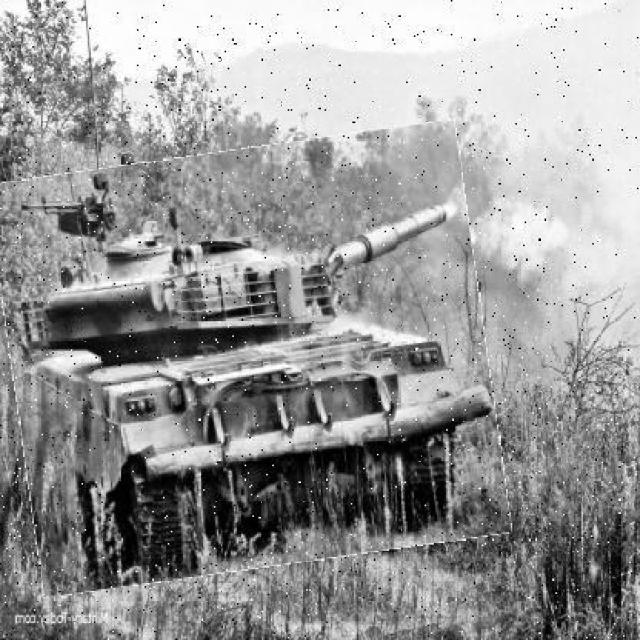Tank: (3, 135, 500, 582)
